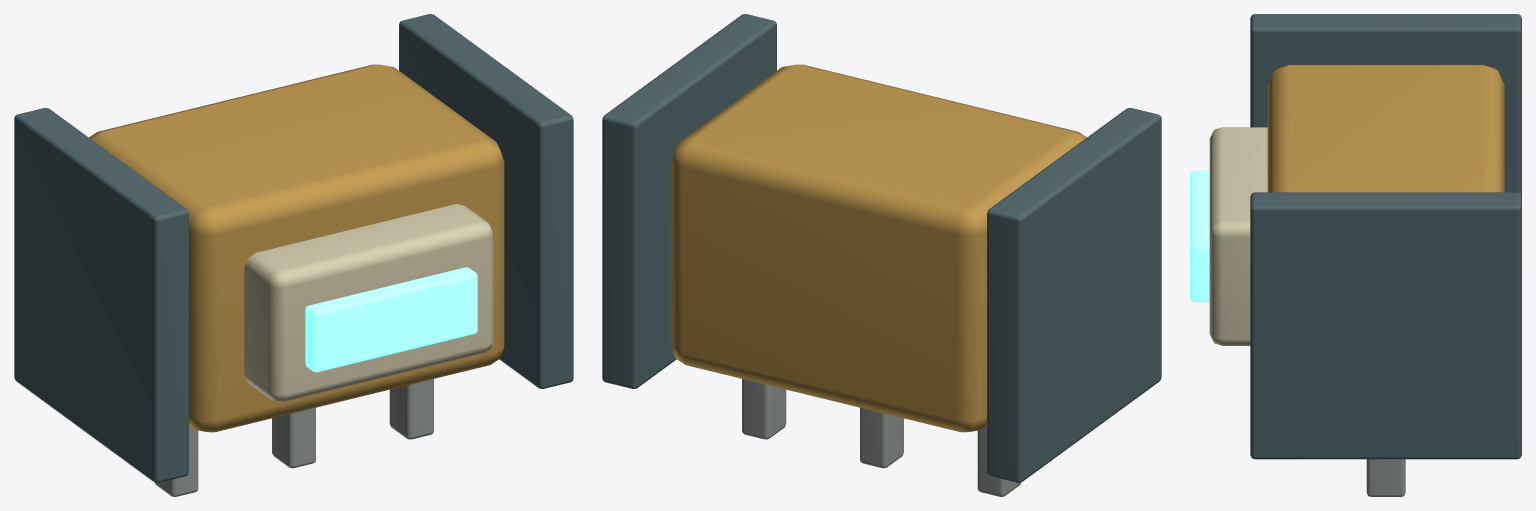
Rendered from depth-regulator.glb.
3 renders of one model, left to right at view 1: azimuth 30°, elevation 25°; view 2: azimuth 150°, elevation 25°; view 3: azimuth 270°, elevation 25°, orthographic. The views are drawn at different scales.
Parts seen in each view (by area): view 1: RegulatorCore, CoolingFin, CoolingFin.001, CeramicInsert, PhosphorWindow, ContactPin.002, ContactPin.001, ContactPin; view 2: RegulatorCore, CoolingFin, CoolingFin.001, ContactPin.002, ContactPin.001, ContactPin; view 3: CoolingFin.001, RegulatorCore, CoolingFin, CeramicInsert, PhosphorWindow, ContactPin.002.
Boxes of the visible parts, left/top/right/bottom form: RegulatorCore: left=89, top=64, right=504, bottom=432; CoolingFin: left=14, top=108, right=188, bottom=482; CoolingFin.001: left=399, top=14, right=573, bottom=388; CeramicInsert: left=244, top=204, right=493, bottom=401; PhosphorWindow: left=305, top=267, right=477, bottom=372; ContactPin.002: left=389, top=379, right=433, bottom=439; ContactPin.001: left=272, top=407, right=315, bottom=468; ContactPin: left=154, top=426, right=198, bottom=496; RegulatorCore: left=671, top=64, right=1086, bottom=432; CoolingFin: left=987, top=108, right=1161, bottom=482; CoolingFin.001: left=602, top=14, right=776, bottom=388; ContactPin.002: left=742, top=379, right=786, bottom=439; ContactPin.001: left=860, top=407, right=903, bottom=468; ContactPin: left=977, top=426, right=1021, bottom=496; CoolingFin.001: left=1250, top=192, right=1521, bottom=459; RegulatorCore: left=1267, top=64, right=1504, bottom=192; CoolingFin: left=1250, top=14, right=1521, bottom=195; CeramicInsert: left=1209, top=127, right=1267, bottom=345; PhosphorWindow: left=1190, top=170, right=1209, bottom=302; ContactPin.002: left=1366, top=459, right=1405, bottom=496.
Size of the model in its own units: 0.107 by 0.084 by 0.077.
